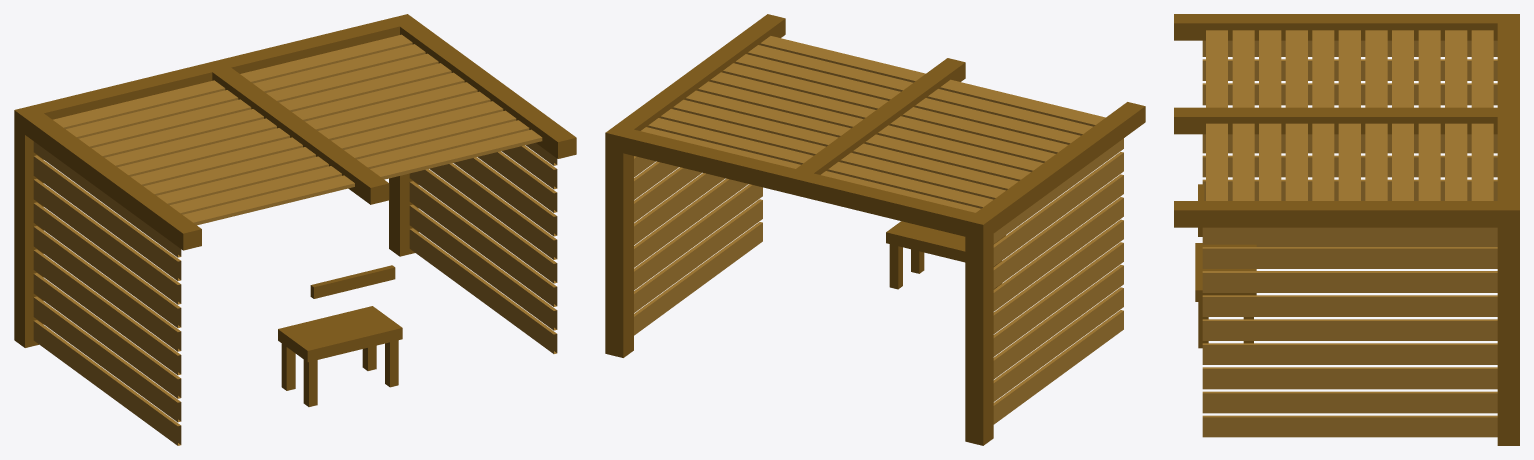
File: Pergola Bois2.fbx
3 views of the same model, side by side, from view 1: azimuth 30°, elevation 25°; view 2: azimuth 150°, elevation 25°; view 3: azimuth 270°, elevation 25° (orthographic). The views are drawn at different scales.
Visible parts, largest first — view 1: Pergola, Etabli, Range outils; view 2: Pergola, Etabli; view 3: Pergola, Etabli.
Part boxes in pixels (x1=…): Pergola: x1=14, y1=14, x2=576, y2=445; Etabli: x1=278, y1=306, x2=402, y2=406; Range outils: x1=310, y1=265, x2=395, y2=298; Pergola: x1=605, y1=14, x2=1145, y2=445; Etabli: x1=886, y1=221, x2=1005, y2=289; Pergola: x1=1174, y1=14, x2=1519, y2=445; Etabli: x1=1195, y1=243, x2=1256, y2=348.
Bounding box in the file's own units: 2427 × 1357 × 1804.
